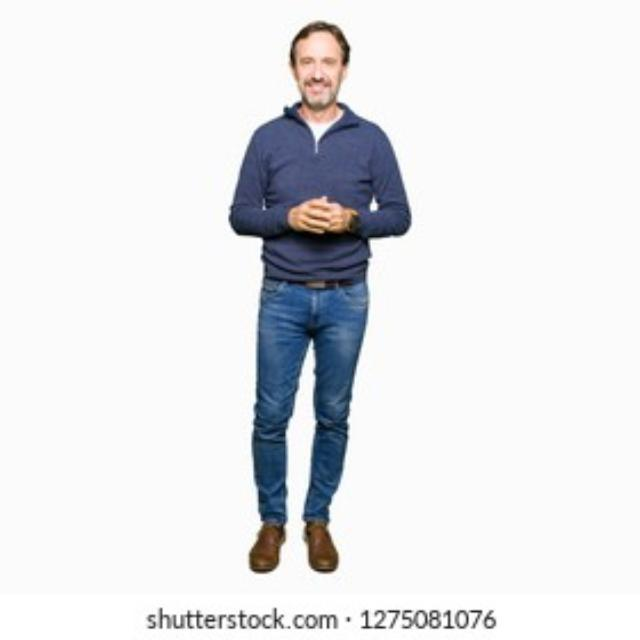person: (195, 9, 442, 589)
